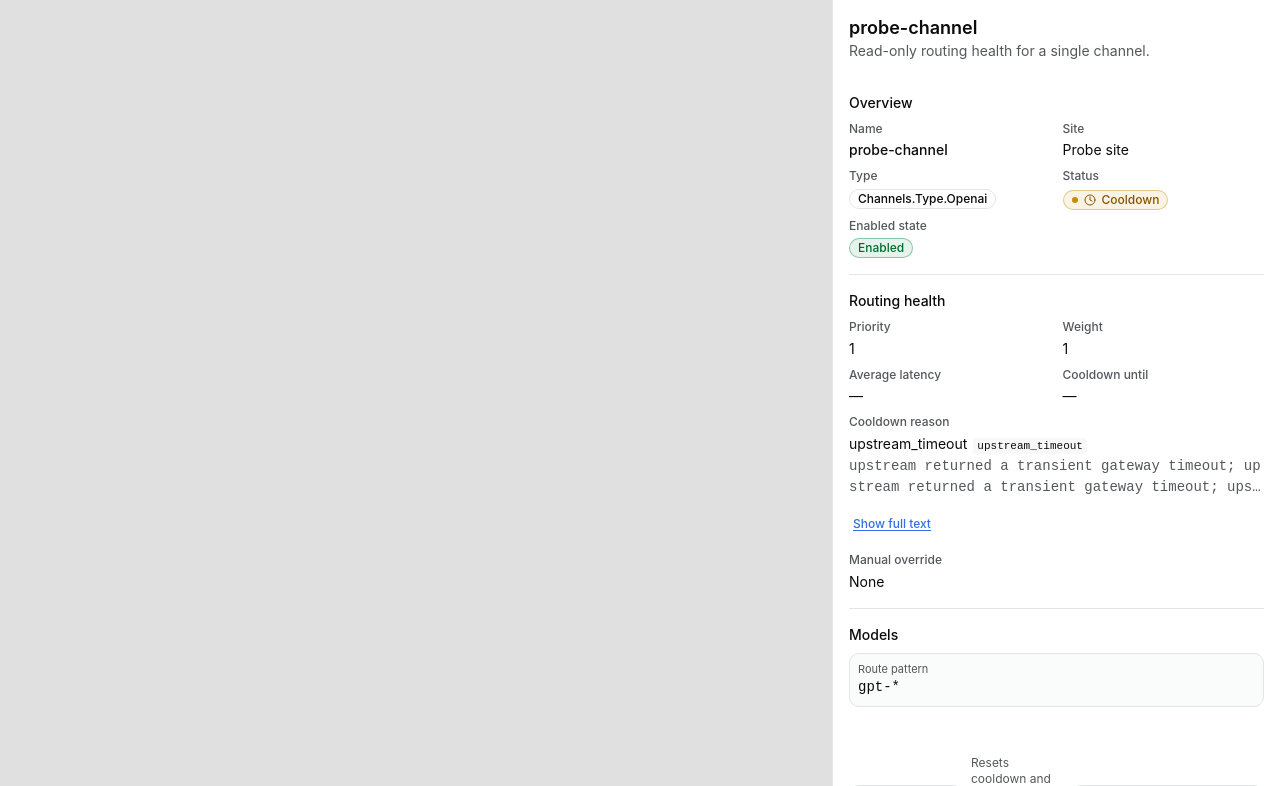
it: ChannelDetailSheet long cooldown reason › expands diagnostic text without relying on the native title tooltip
What coordinates should you click on to do the following:
click the button "Show full text"
I would click on:
 (892, 524)
Its box is [849,504,935,544].
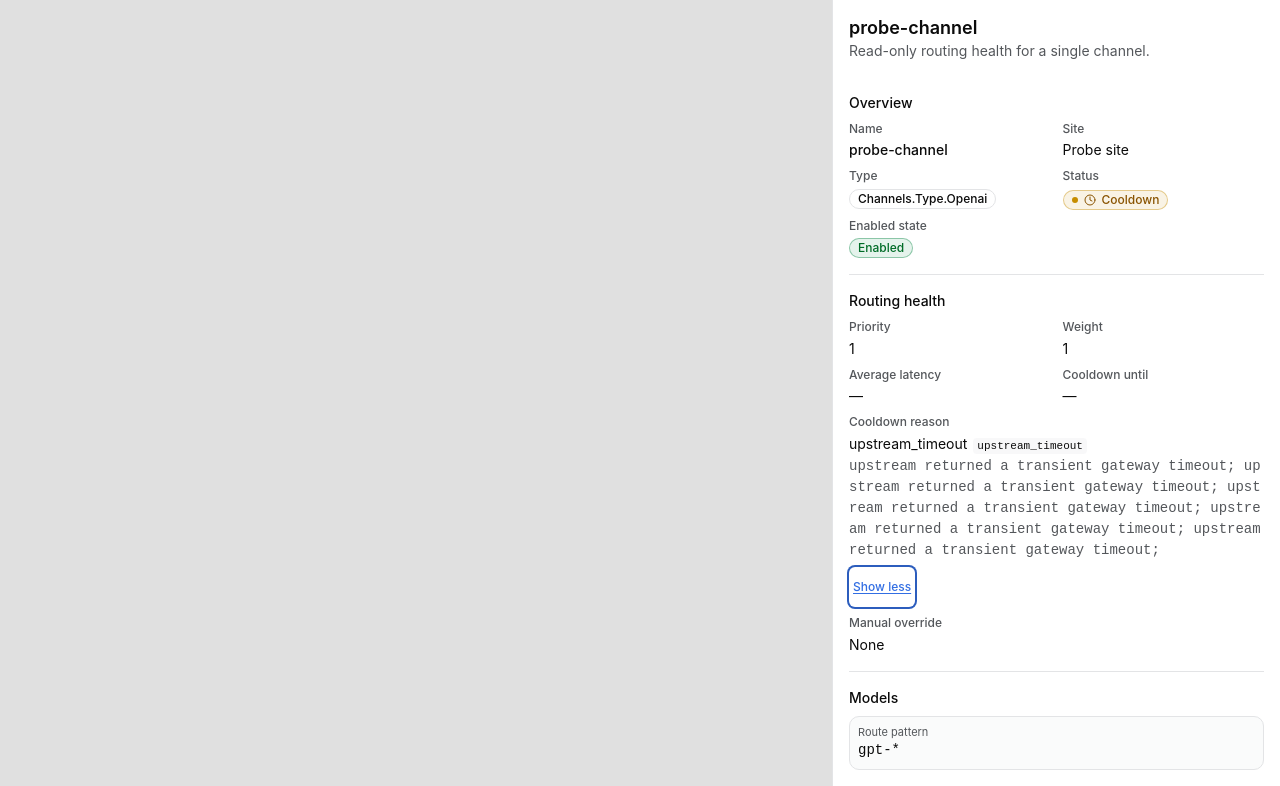
Now the button named "Show full text" is expanded, box [849,567,915,607]
